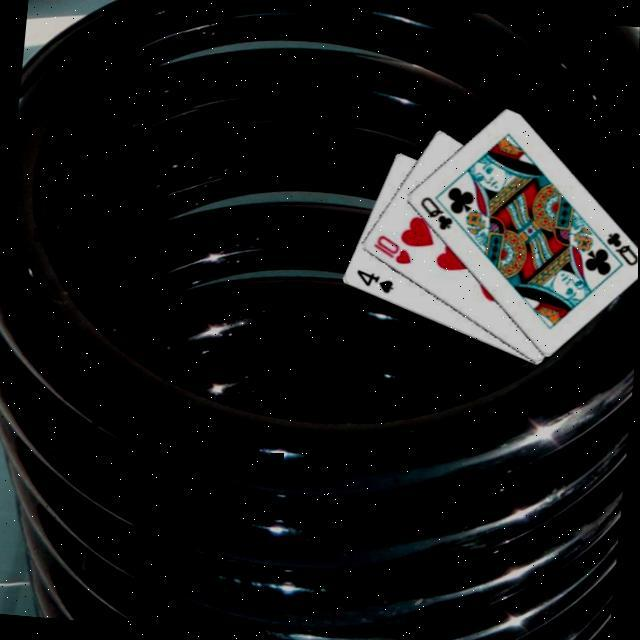10H: (369, 230, 417, 268)
4S: (352, 265, 397, 297)
QC: (415, 191, 458, 232), (601, 226, 638, 267)
